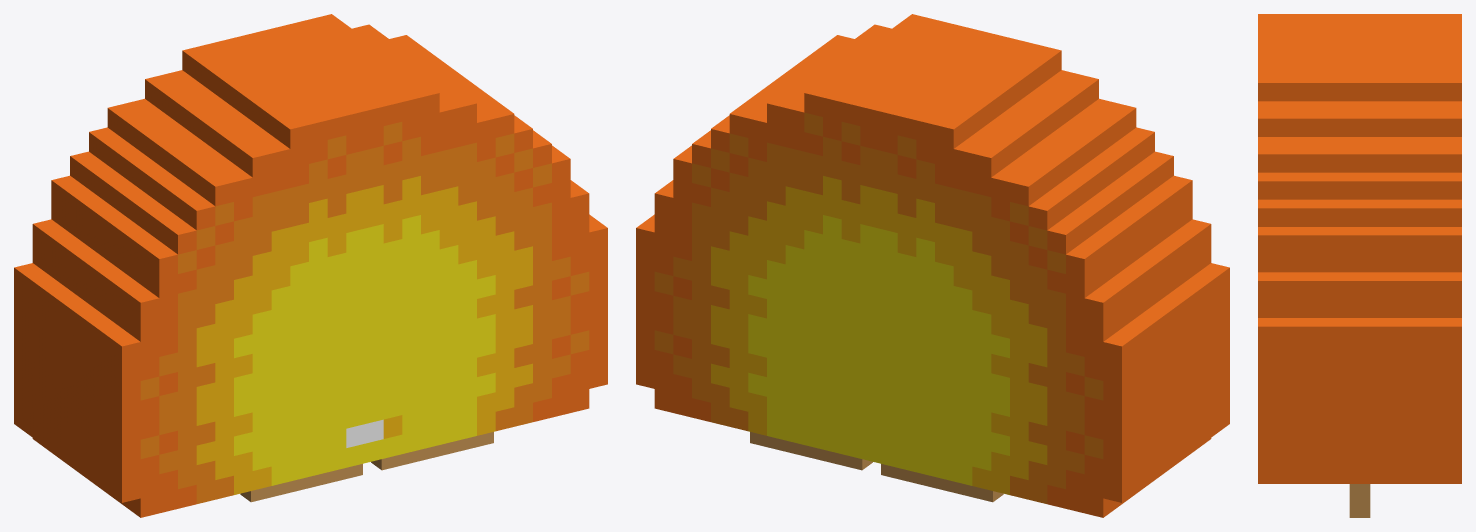
The model's file is sunset.glb.
3 renders of one model, left to right at view 1: azimuth 30°, elevation 25°; view 2: azimuth 150°, elevation 25°; view 3: azimuth 270°, elevation 25°, orthographic. The views are drawn at different scales.
Visible parts, largest first — view 1: base, glasses, mouth; view 2: base, glasses; view 3: base, glasses.
Part boxes in pixels (box(x1,y1,x2,y2)): base: box(14, 14, 607, 517); glasses: box(240, 432, 493, 502); mouth: box(346, 415, 402, 447); base: box(636, 14, 1229, 517); glasses: box(750, 432, 1003, 502); base: box(1258, 14, 1461, 483); glasses: box(1349, 484, 1370, 517).
Size of the model in its own units: 26 by 21 by 10.
10 materials, 10 textured.
